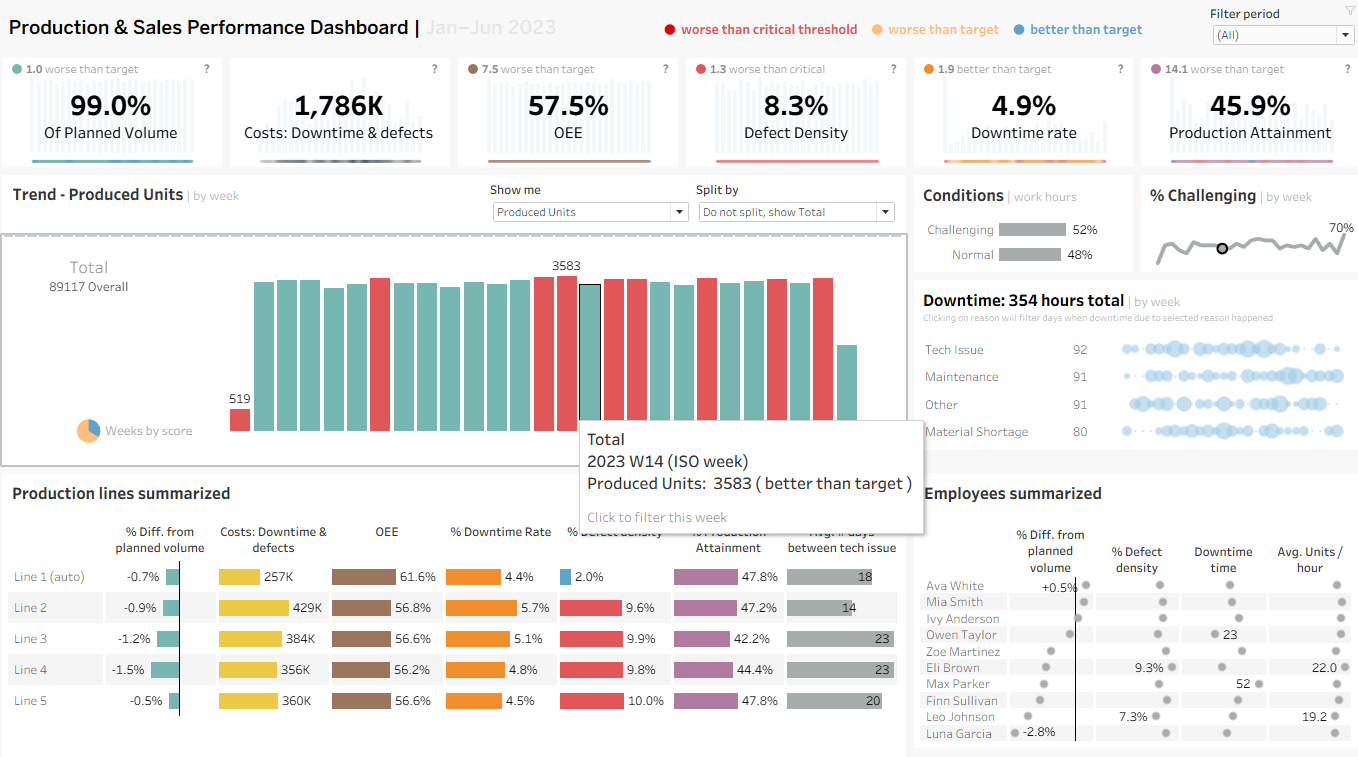

The page's visual inventory and layout, read from the dashboard file:
{"tool":"tableau","page":{"name":"Production","canvas":[1366,768],"ordinal":0},"visuals":[{"type":"text","box":[4,4,590,47]},{"type":"text","box":[594,4,557,47]},{"type":"blank","box":[1151,4,59,47]},{"type":"filter","title":"Trend hub","param":"[federated.1gf9t1f1ac5zj7100k57j0hhekil].[my:Date:ok]","box":[1210,4,152,47]},{"type":"worksheet","title":"Production Volume KPI","mark":"Automatic","box":[0,55,228,117]},{"type":"worksheet","title":"Production costs (2)","mark":"Automatic","box":[228,55,228,117]},{"type":"worksheet","title":"OEE KPI","mark":"Automatic","box":[456,55,228,117]},{"type":"worksheet","title":"Defect Density KPI","mark":"Automatic","box":[684,55,228,117]},{"type":"worksheet","title":"Downtime rte KPI","mark":"Automatic","box":[912,55,227,117]},{"type":"worksheet","title":"Production Attainment KPI","mark":"Automatic","box":[1139,55,227,117]},{"type":"worksheet","title":"Work Conditions | summary","mark":"Bar","rows":["Work Conditions"],"box":[912,172,227,105]},{"type":"worksheet","title":"Challenging condition trend","mark":"Line","rows":["Calculation_1954843717933309953"],"cols":["Date (ISO Week numbers)"],"box":[1139,172,227,105]},{"type":"text","box":[8,180,484,52]},{"type":"parameter","param":"[Parameters].[Parameter 8]","box":[492,180,206,52]},{"type":"parameter","param":"[Parameters].[Parameter 7]","box":[698,180,206,52]},{"type":"worksheet","title":"Trend hub","mark":"Automatic","rows":["Calculation_1103663388444155971"],"box":[4,236,904,230]},{"type":"worksheet","title":"Downtime reasons","mark":"Circle","rows":["Downtime Reason","Calculation_1103663388773396693"],"cols":["Date (ISO Week numbers)"],"box":[912,277,454,178]},{"type":"worksheet","title":"Line comparison","mark":"Bar","rows":["Production Line"],"cols":["Calculation_1103663388439273531","Calculation_1103663388439273531","Calculation_1103663388429291562","Calculation_1103663388429291562","Calculation_138767167942180887","Calculation_138767167942180887","Calculation_138767167932002316","Calculation_138767167932002316","Calculation_138767167839330312","Calculation_138767167839330312","Calculation_138767167934398480","Calculation_138767167934398480"],"box":[0,470,912,298]},{"type":"worksheet","title":"Employee","mark":"Circle","rows":["Employee"],"box":[912,470,454,283]}]}

Visuals, with their boxes in screenshot pixels (x1, y1, x2, y2), scaled from the page's 1366x768 canvas onto the 1358x757 screenshot:
text: BBox(4, 4, 591, 50)
text: BBox(591, 4, 1144, 50)
blank: BBox(1144, 4, 1203, 50)
"Trend hub" filter: BBox(1203, 4, 1354, 50)
"Production Volume KPI" worksheet: BBox(0, 54, 227, 170)
"Production costs (2)" worksheet: BBox(227, 54, 453, 170)
"OEE KPI" worksheet: BBox(453, 54, 680, 170)
"Defect Density KPI" worksheet: BBox(680, 54, 907, 170)
"Downtime rte KPI" worksheet: BBox(907, 54, 1132, 170)
"Production Attainment KPI" worksheet: BBox(1132, 54, 1357, 170)
"Work Conditions | summary" worksheet (Bar marks): BBox(907, 170, 1132, 273)
"Challenging condition trend" worksheet (Line marks): BBox(1132, 170, 1357, 273)
text: BBox(8, 177, 489, 229)
parameter: BBox(489, 177, 694, 229)
parameter: BBox(694, 177, 899, 229)
"Trend hub" worksheet: BBox(4, 233, 903, 459)
"Downtime reasons" worksheet (Circle marks): BBox(907, 273, 1357, 448)
"Line comparison" worksheet (Bar marks): BBox(0, 463, 907, 756)
"Employee" worksheet (Circle marks): BBox(907, 463, 1357, 742)
